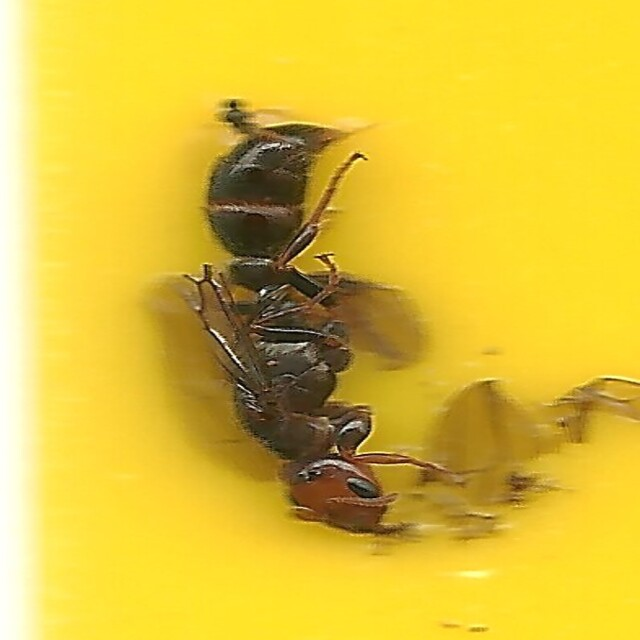Hymenoptera: (163, 94, 477, 546)
